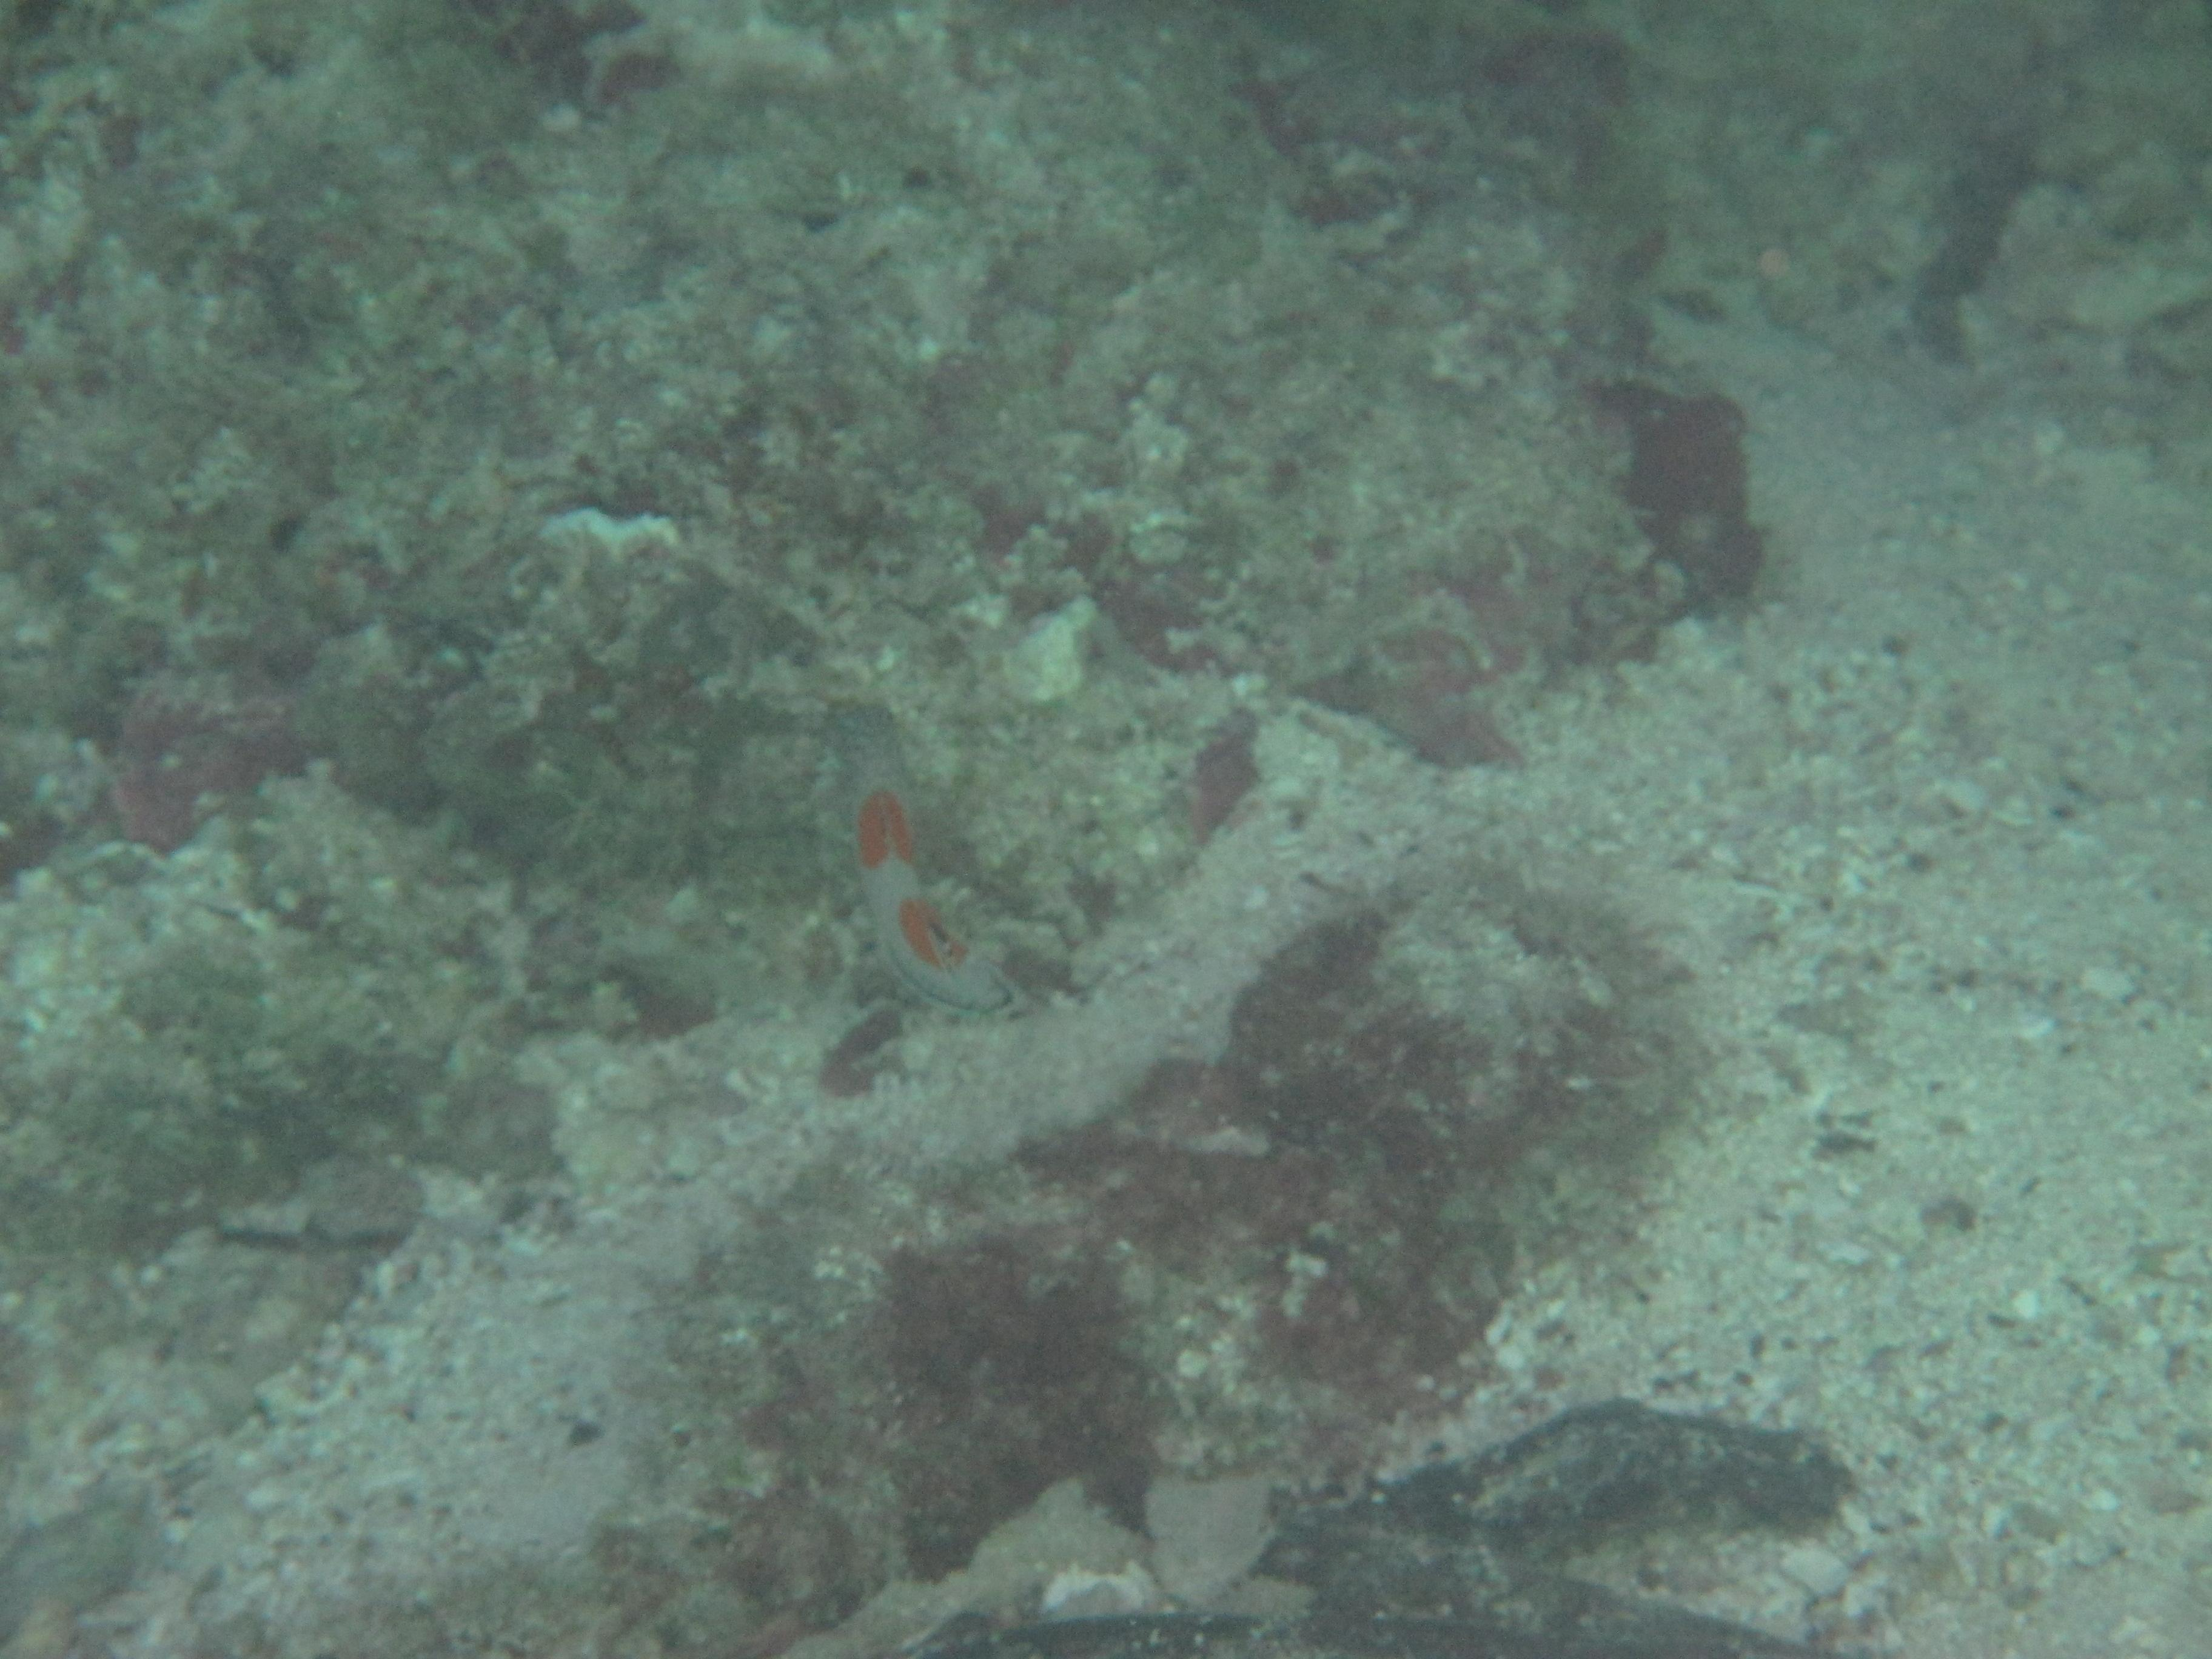Fish: (782, 678, 1059, 1061)
